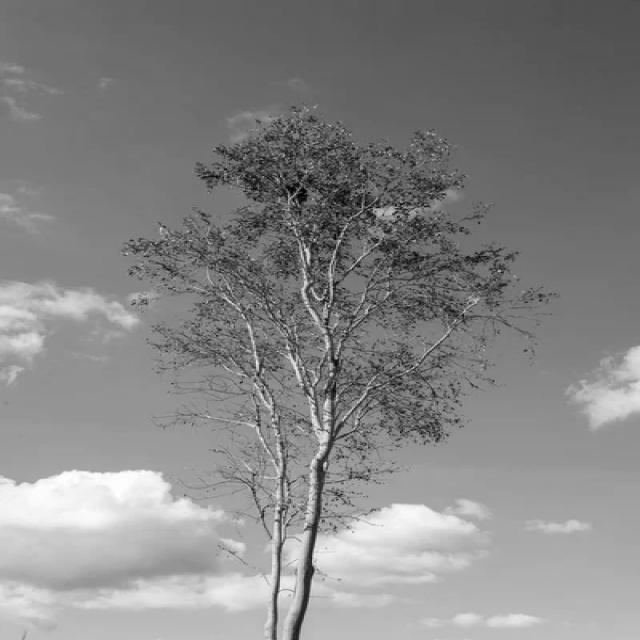Tree: (123, 105, 550, 640)
